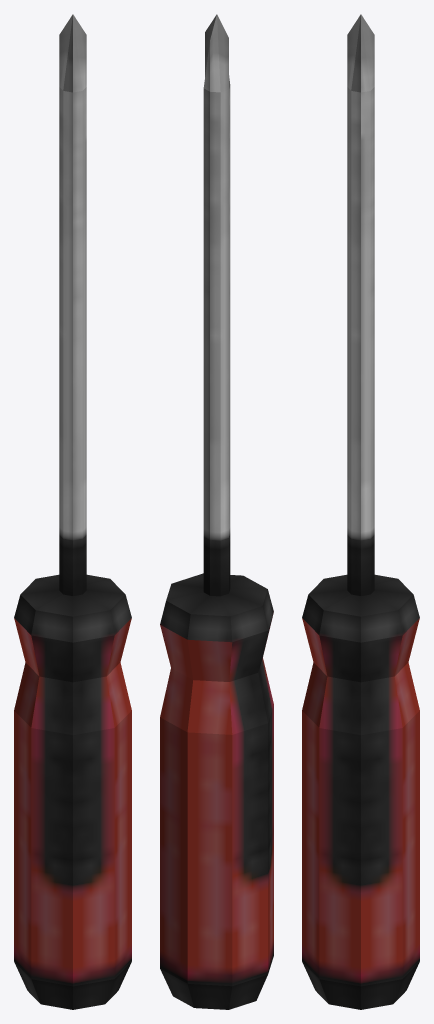
File: Screwdriver.fbx
3 views of the same model, side by side, from view 1: azimuth 90°, elevation 25°; view 2: azimuth 150°, elevation 25°; view 3: azimuth 270°, elevation 25° (orthographic).
Parts seen in each view (by area): view 1: ScrewDriver; view 2: ScrewDriver; view 3: ScrewDriver.
Boxes of the visible parts, box(x1,y1,x2,y2) form: ScrewDriver: box(14, 14, 131, 1009); ScrewDriver: box(160, 14, 273, 1009); ScrewDriver: box(302, 14, 419, 1009).
Bounding box in the file's own units: 384 × 3514 × 384.
Materials: 1 (1 with a texture image).
